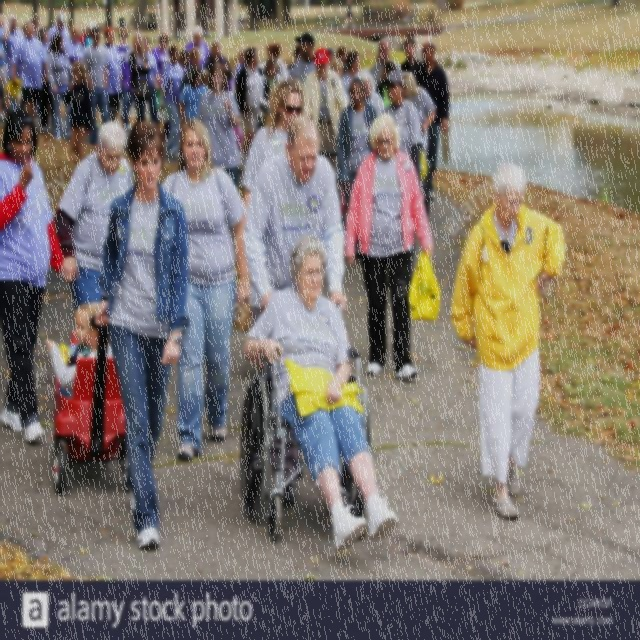pessoa: (241, 232, 398, 554), (449, 158, 566, 522), (94, 118, 191, 550), (161, 117, 252, 463), (0, 106, 79, 444), (344, 112, 442, 380), (245, 116, 345, 330), (54, 119, 136, 319), (240, 77, 304, 216), (45, 302, 117, 400), (411, 39, 452, 201), (301, 47, 352, 174), (196, 61, 242, 196), (336, 77, 379, 211), (55, 302, 112, 400), (380, 70, 423, 184), (10, 20, 50, 123), (62, 59, 96, 180), (400, 72, 438, 175), (44, 30, 78, 144), (234, 46, 264, 172), (350, 76, 380, 202), (82, 26, 110, 145), (158, 44, 184, 160), (1, 13, 26, 116), (150, 31, 172, 142), (128, 30, 152, 124), (102, 26, 124, 121), (178, 67, 210, 128), (36, 24, 54, 131), (116, 26, 134, 132), (142, 36, 162, 126), (202, 38, 233, 92), (368, 38, 402, 86), (289, 32, 320, 84), (258, 55, 285, 114), (376, 60, 404, 110), (183, 24, 212, 68), (256, 42, 288, 80), (181, 45, 209, 87), (329, 58, 352, 106), (398, 36, 424, 76), (341, 50, 369, 84), (0, 12, 8, 120), (65, 24, 85, 66), (48, 12, 70, 44), (233, 46, 248, 86), (78, 20, 98, 48), (343, 1, 359, 34), (176, 47, 192, 74), (288, 41, 302, 69), (334, 44, 348, 70), (323, 40, 336, 64), (31, 12, 40, 34), (200, 69, 210, 85)
